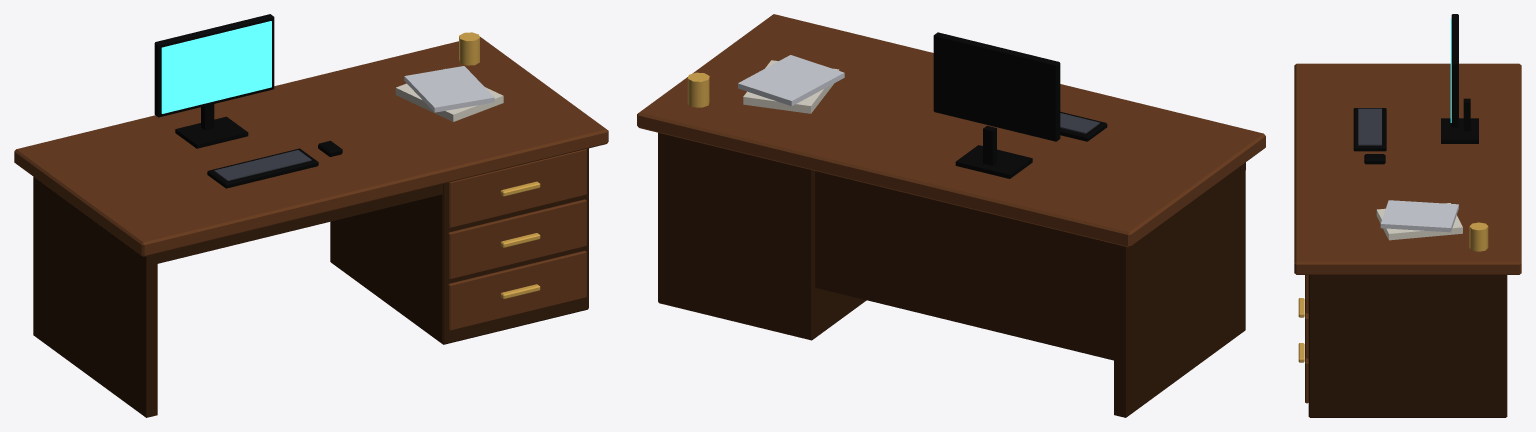
The model's file is desk_office.glb.
The picture shows the model from 3 angles, left to right: view 1: azimuth 30°, elevation 25°; view 2: azimuth 150°, elevation 25°; view 3: azimuth 270°, elevation 25°; orthographic projection. The views are drawn at different scales.
Visible parts, largest first — view 1: desk_office, screen; view 2: desk_office; view 3: desk_office.
Part boxes in pixels (bbox=[...]): desk_office: bbox=[14, 14, 608, 417]; screen: bbox=[161, 21, 271, 113]; desk_office: bbox=[637, 14, 1265, 417]; desk_office: bbox=[1294, 14, 1521, 417].
Size of the model in its own units: 2 by 1.19 by 0.96.
